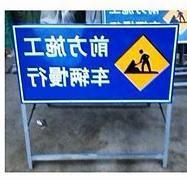sign: (12, 24, 180, 106)
